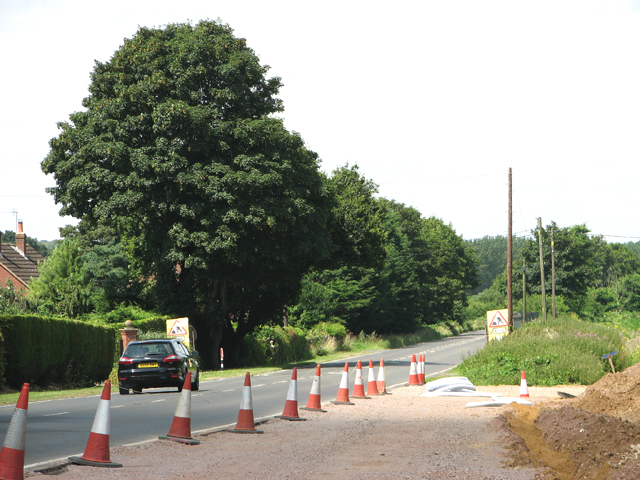cone: (69, 373, 122, 469), (1, 383, 43, 479), (160, 370, 203, 446), (224, 372, 265, 434), (276, 365, 303, 422), (299, 364, 327, 412), (331, 358, 352, 406), (511, 371, 534, 403), (350, 359, 365, 404), (363, 357, 379, 398), (373, 357, 388, 395), (404, 355, 419, 384)
